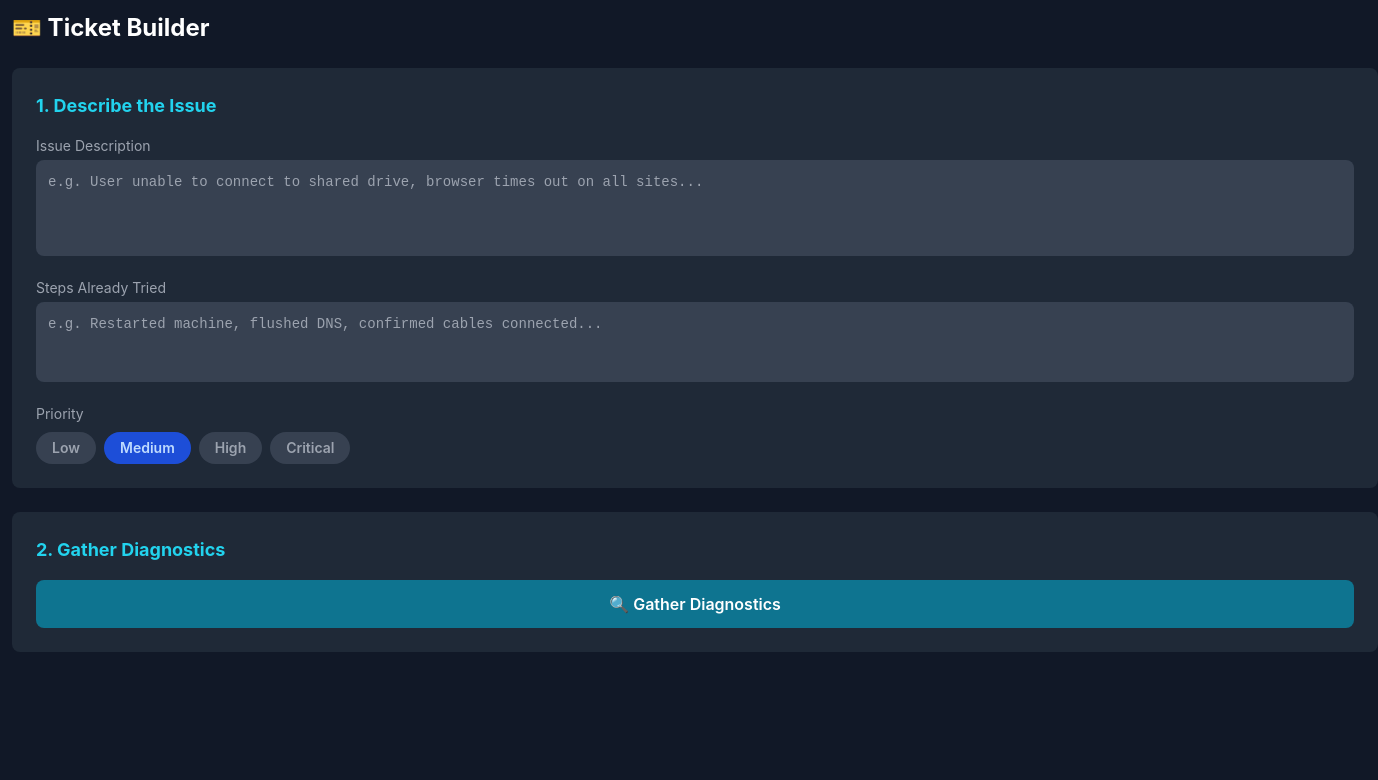
TicketBuilder › shows loading state when gathering diagnostics
The width and height of the screenshot is (1378, 780).
Step 1. Click the button "🔍 Gather Diagnostics" → click(695, 604), box [36,580,1354,628]
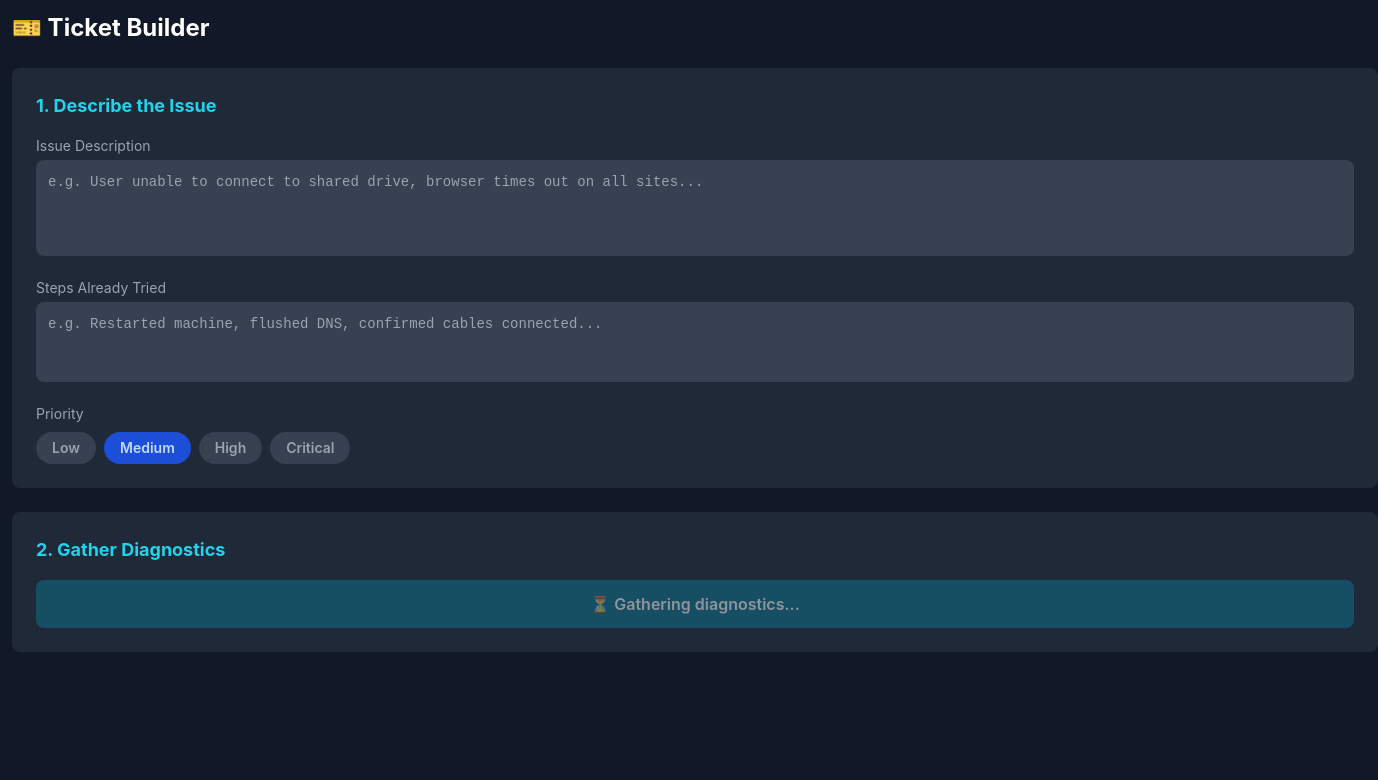
Expected: the button "⏳ Gathering diagnostics..." is shown, [36,580,1354,628]
